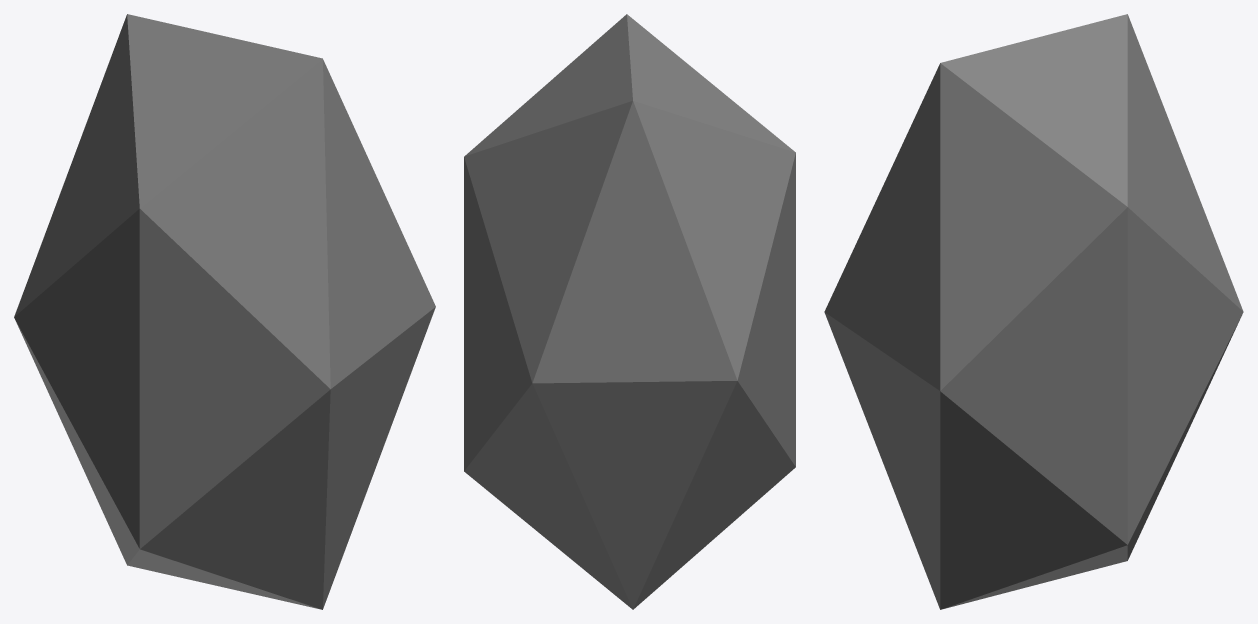
The model's file is Golem_ArmUp.fbx.
The picture shows the model from 3 angles, left to right: view 1: azimuth 30°, elevation 25°; view 2: azimuth 150°, elevation 25°; view 3: azimuth 270°, elevation 25°; orthographic projection. The views are drawn at different scales.
Parts seen in each view (by area): view 1: ArmUp; view 2: ArmUp; view 3: ArmUp.
Boxes of the visible parts, x1,y1,x2,y2 form: ArmUp: (14,14,435,609); ArmUp: (464,14,795,609); ArmUp: (824,14,1243,609).
Size of the model in its own units: 108 by 174 by 121.
1 material, 1 textured.
